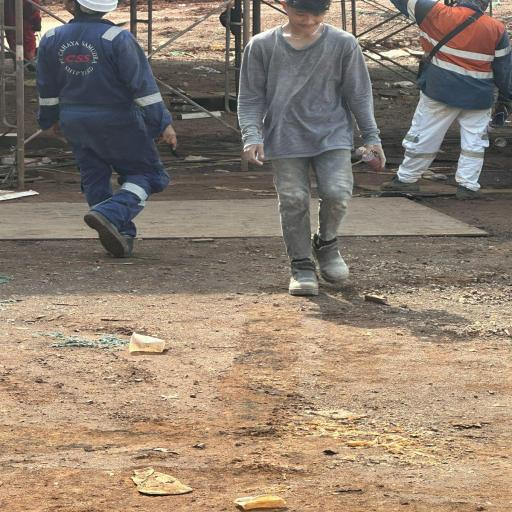safety_shoe: (83, 212, 130, 256), (311, 237, 352, 279), (284, 260, 319, 297), (450, 179, 494, 200), (379, 176, 421, 196)
